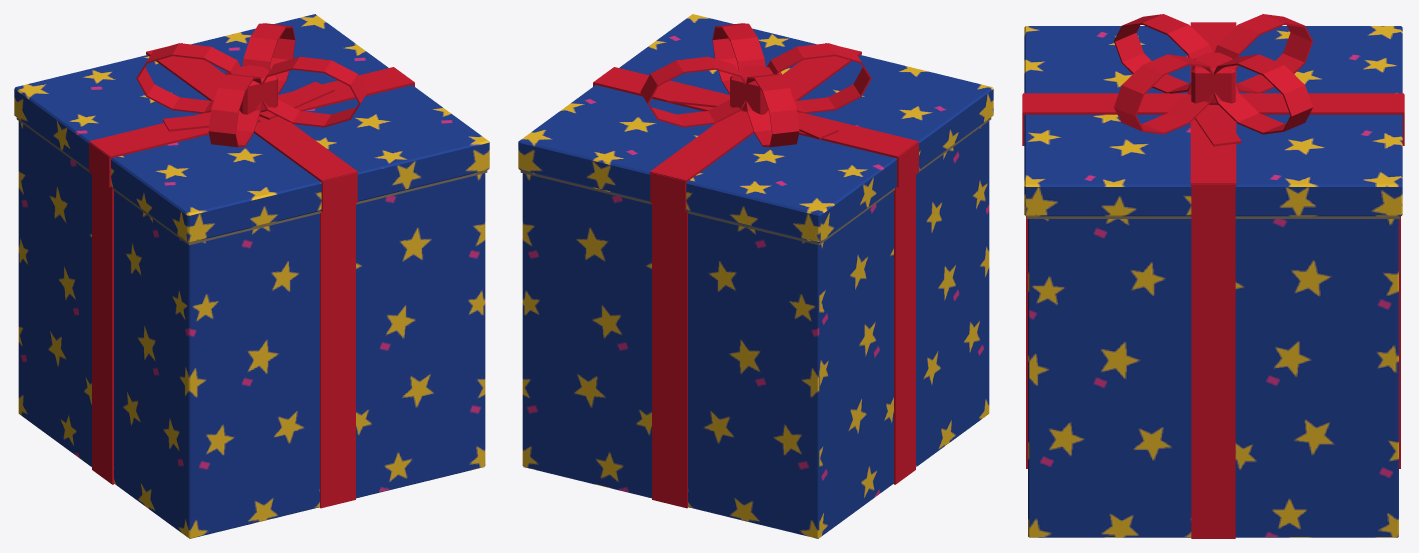
Rendered from party_gift_stars.glb.
The picture shows the model from 3 angles, left to right: view 1: azimuth 30°, elevation 25°; view 2: azimuth 150°, elevation 25°; view 3: azimuth 270°, elevation 25°; orthographic projection. The views are drawn at different scales.
Parts seen in each view (by area): view 1: party_gift_stars; view 2: party_gift_stars; view 3: party_gift_stars.
Part boxes in pixels (x1,y1,x2,y2): party_gift_stars: [14, 14, 489, 538]; party_gift_stars: [518, 14, 993, 538]; party_gift_stars: [1022, 14, 1404, 538].
Size of the model in its own units: 0.303 by 0.3634 by 0.303.
3 materials, 1 textured.
